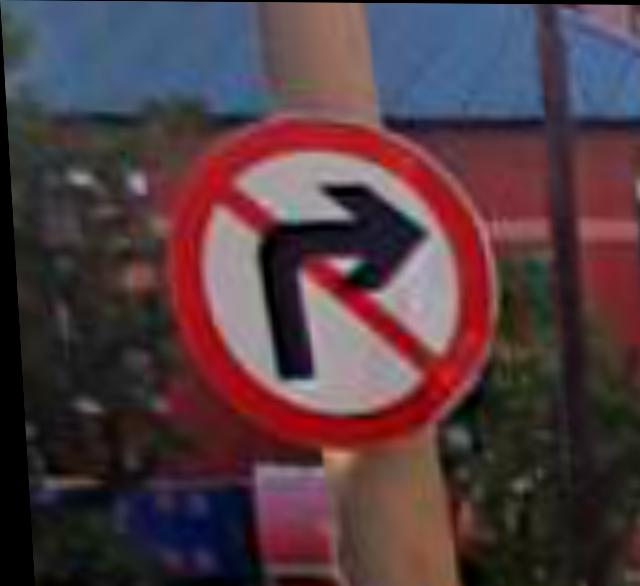not_turn_right: (147, 112, 507, 437)
